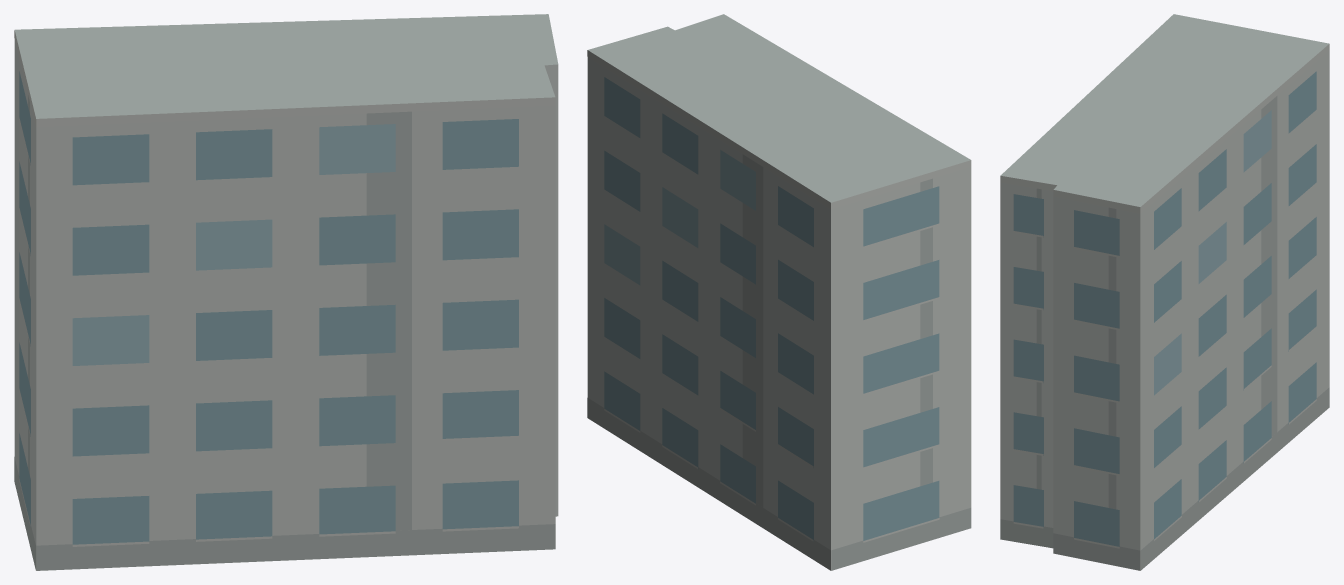
Rendered from survey-upis-32724574.glb.
The picture shows the model from 3 angles, left to right: view 1: azimuth 30°, elevation 25°; view 2: azimuth 150°, elevation 25°; view 3: azimuth 270°, elevation 25°; orthographic projection. The views are drawn at different scales.
Visible parts, largest first — view 1: survey-upis-32724574.tmp; view 2: survey-upis-32724574.tmp; view 3: survey-upis-32724574.tmp.
Boxes of the visible parts, <box> form: survey-upis-32724574.tmp: <box>14,14,558,570</box>; survey-upis-32724574.tmp: <box>587,14,971,570</box>; survey-upis-32724574.tmp: <box>1000,14,1329,570</box>.
Bounding box in the file's own units: 15.04 × 13.2 × 10.84.
